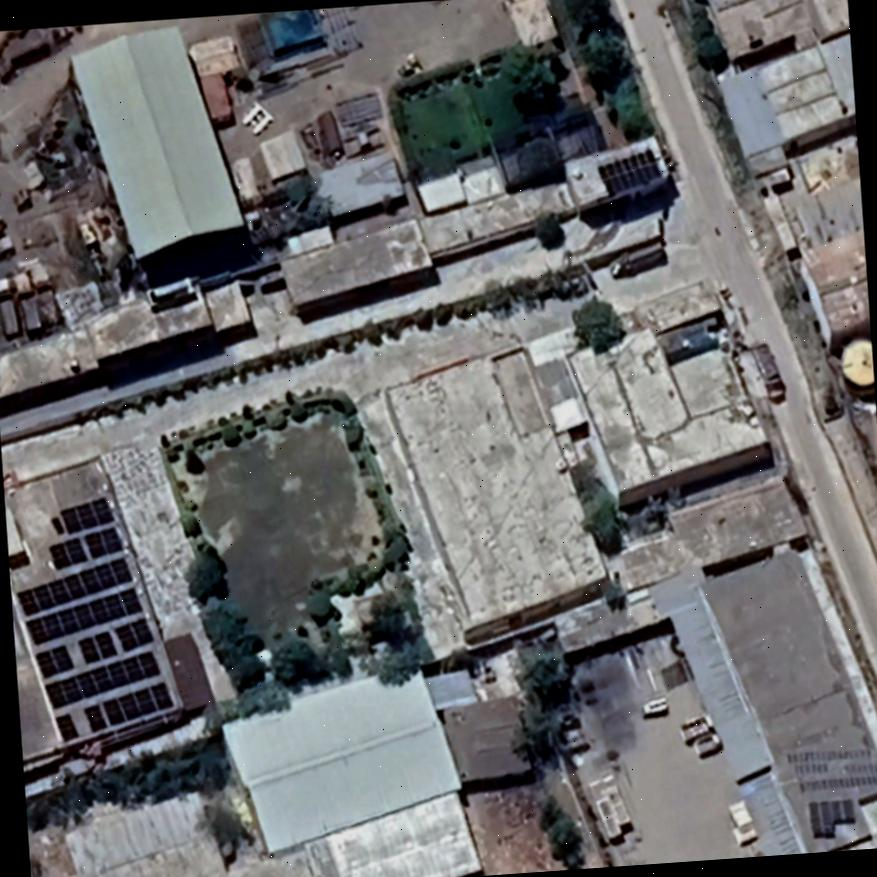Solarpanel: (13, 553, 136, 618), (23, 583, 145, 648), (41, 648, 164, 712), (79, 678, 176, 736), (41, 523, 128, 573), (594, 146, 664, 196), (57, 495, 117, 534), (31, 640, 76, 680), (74, 628, 119, 667), (110, 615, 153, 654), (53, 710, 81, 745)
